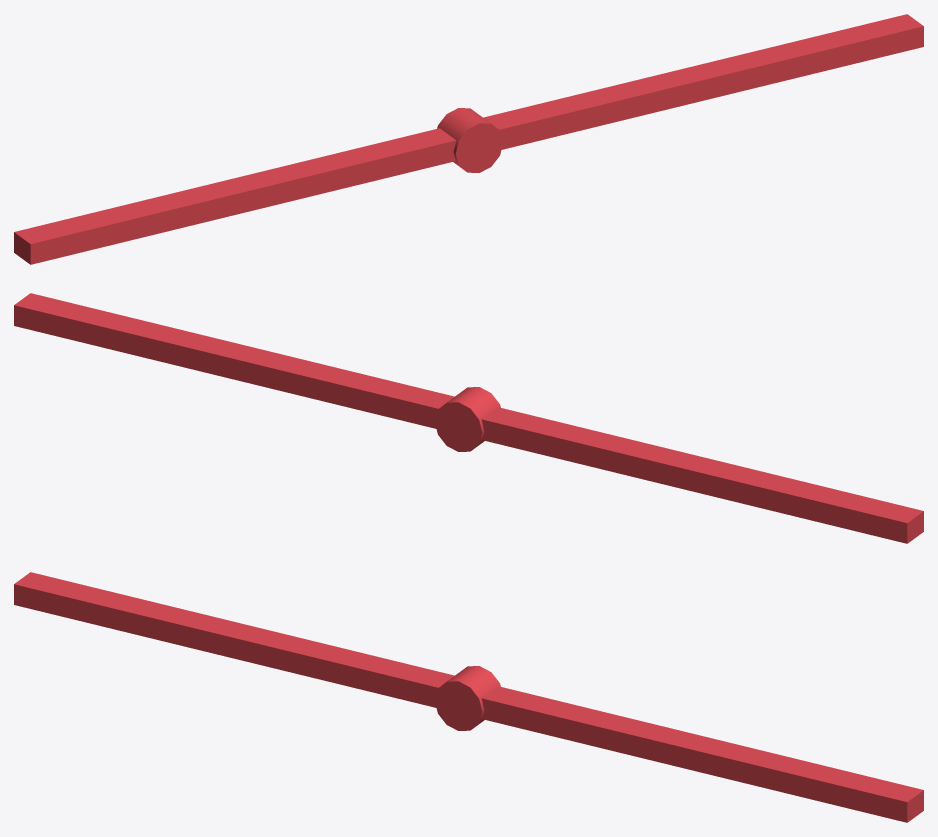
Rendered from seesaw_b.fbx.
3 renders of one model, top to bottom at view 1: azimuth 30°, elevation 25°; view 2: azimuth 150°, elevation 25°; view 3: azimuth 330°, elevation 25°, orthographic.
Parts seen in each view (by area): view 1: seesaw; view 2: seesaw; view 3: seesaw.
Part boxes in pixels (<box>): seesaw: <box>14,14,923,264</box>; seesaw: <box>14,293,923,543</box>; seesaw: <box>14,572,923,822</box>.
Bounding box in the file's own units: 49.64 × 2.65 × 2.02.
